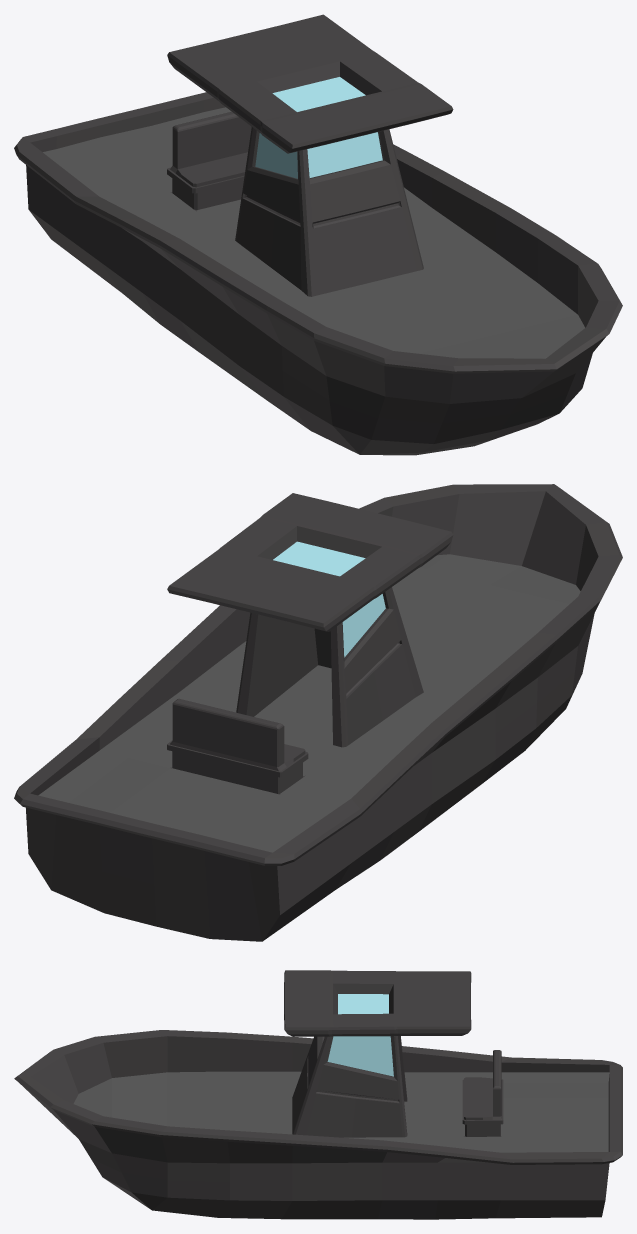
The model's file is PatrolBoatB.fbx.
The picture shows the model from 3 angles, top to bottom: view 1: azimuth 30°, elevation 25°; view 2: azimuth 150°, elevation 25°; view 3: azimuth 270°, elevation 25°; orthographic projection. The views are drawn at different scales.
Parts seen in each view (by area): view 1: PatrolBoat; view 2: PatrolBoat; view 3: PatrolBoat.
Part boxes in pixels (<box>): PatrolBoat: <box>14,14,622,455</box>; PatrolBoat: <box>14,484,622,941</box>; PatrolBoat: <box>14,970,622,1219</box>.
Size of the model in its own units: 587 by 494 by 1444.
